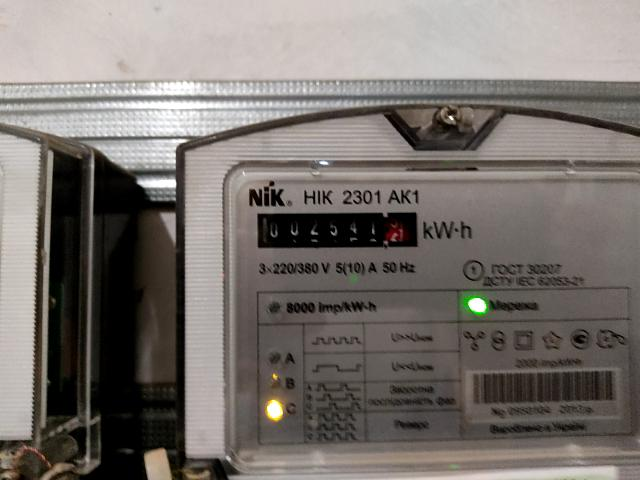0: (267, 218, 280, 239), (288, 216, 300, 237)
1: (367, 217, 378, 237)
2: (308, 217, 320, 237)
4: (348, 216, 360, 237)
5: (327, 216, 339, 238)
6: (389, 229, 400, 244)
screen: (247, 203, 429, 257)
